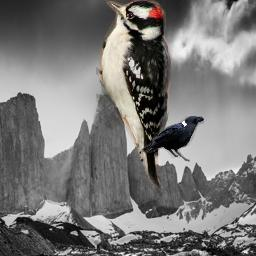Crow: (141, 116, 204, 162)
Woodpecker: (96, 0, 171, 189)
